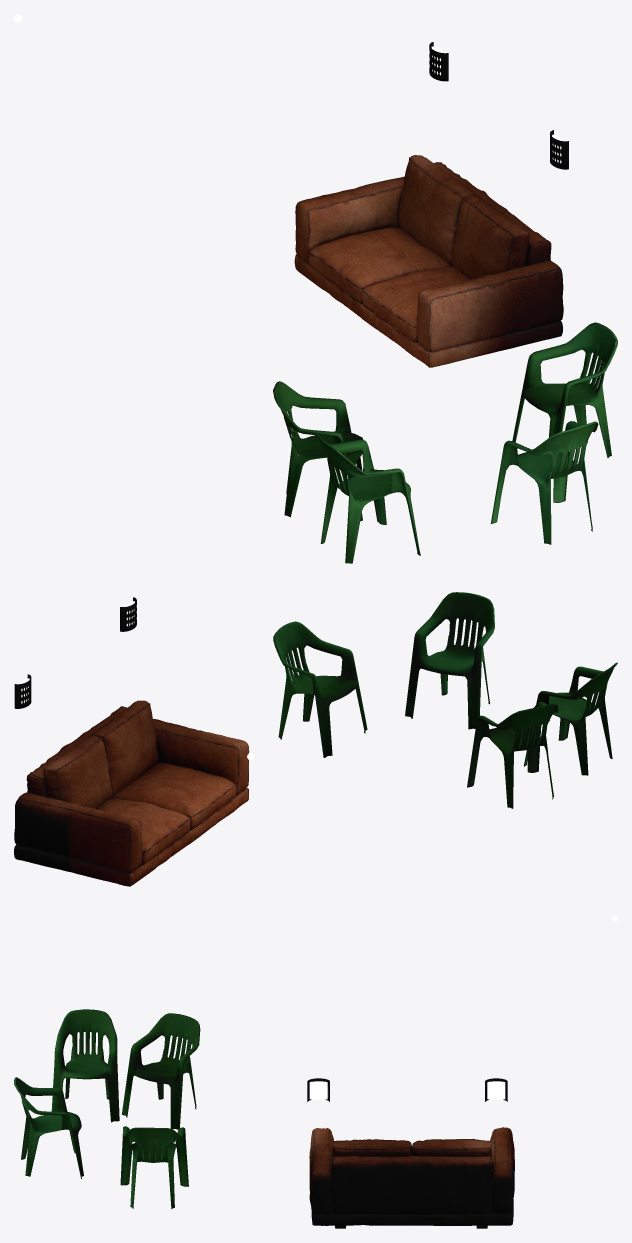
The model's file is SM_LivR_F3.glb.
The picture shows the model from 3 angles, top to bottom: view 1: azimuth 30°, elevation 25°; view 2: azimuth 150°, elevation 25°; view 3: azimuth 270°, elevation 25°; orthographic projection. The views are drawn at different scales.
Parts seen in each view (by area): view 1: SM_LivR_F3; view 2: SM_LivR_F3; view 3: SM_LivR_F3.
Part boxes in pixels (left/top/right/bottom): SM_LivR_F3: left=14, top=14, right=617, bottom=563; SM_LivR_F3: left=14, top=592, right=617, bottom=886; SM_LivR_F3: left=14, top=915, right=617, bottom=1228.
Size of the model in its own units: 3.28 by 2.1 by 5.83.
Materials: 1 (1 with a texture image).
